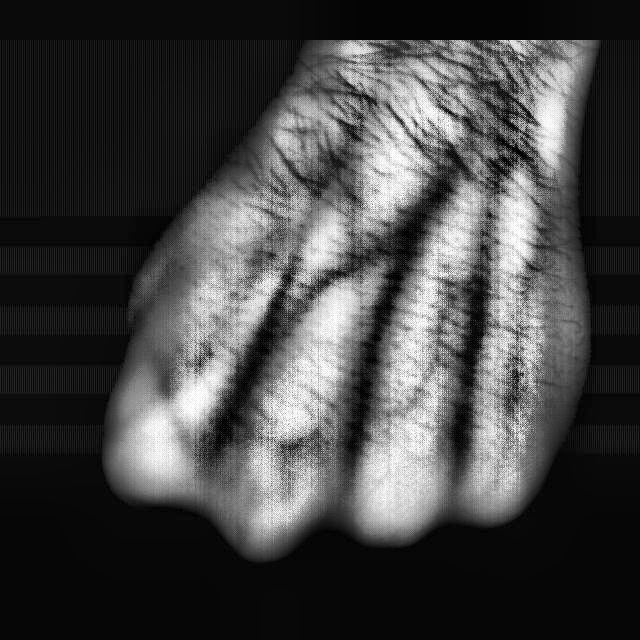Vein: (345, 136, 468, 394)
